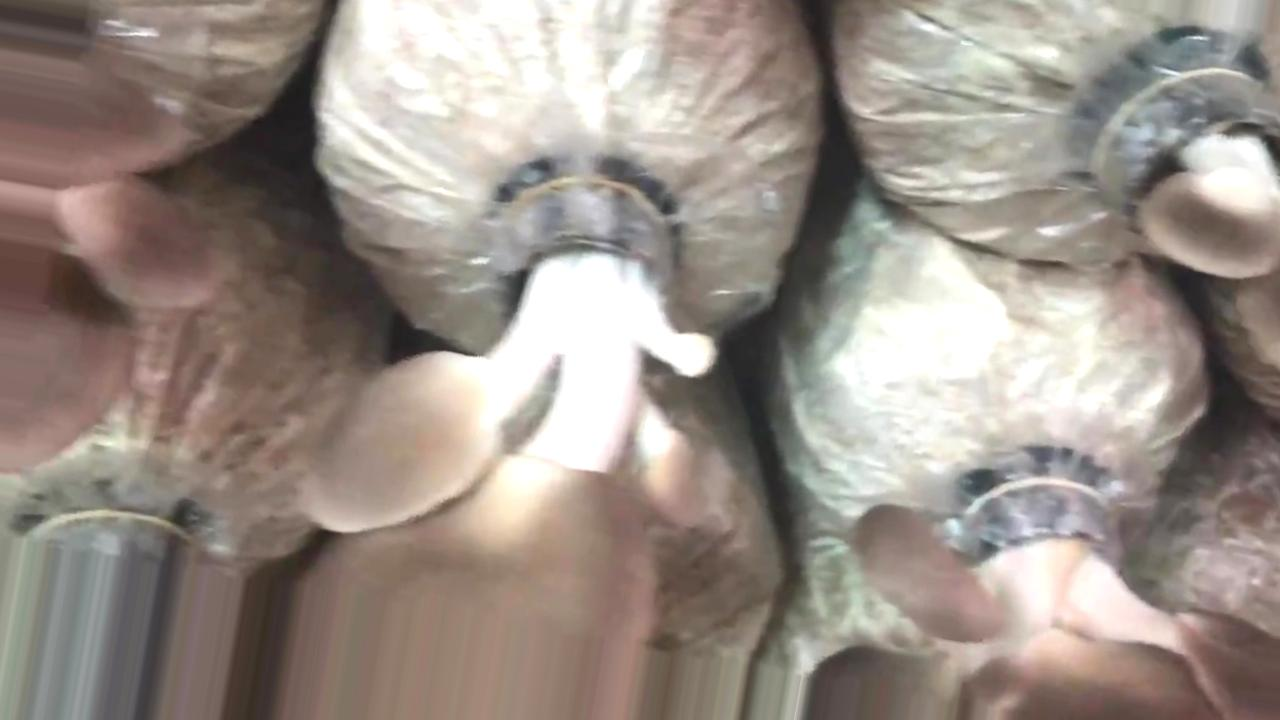nam: (278, 178, 724, 720), (795, 485, 1280, 715), (1134, 64, 1280, 286)
